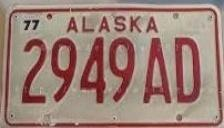2: (21, 36, 50, 105)
4: (78, 35, 109, 106)
9: (107, 35, 138, 104), (48, 36, 79, 104)
A: (140, 36, 173, 106)
D: (173, 35, 203, 105)
